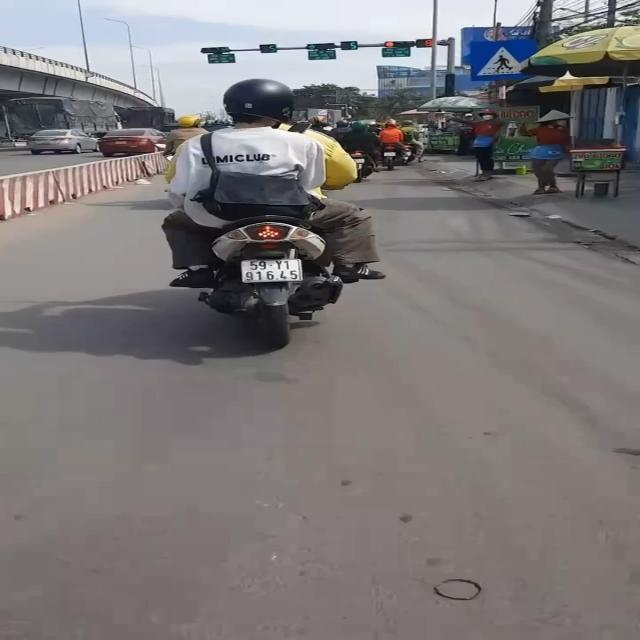224-duong-nguoi-di-bo-cat-ngang: (462, 40, 546, 80)
